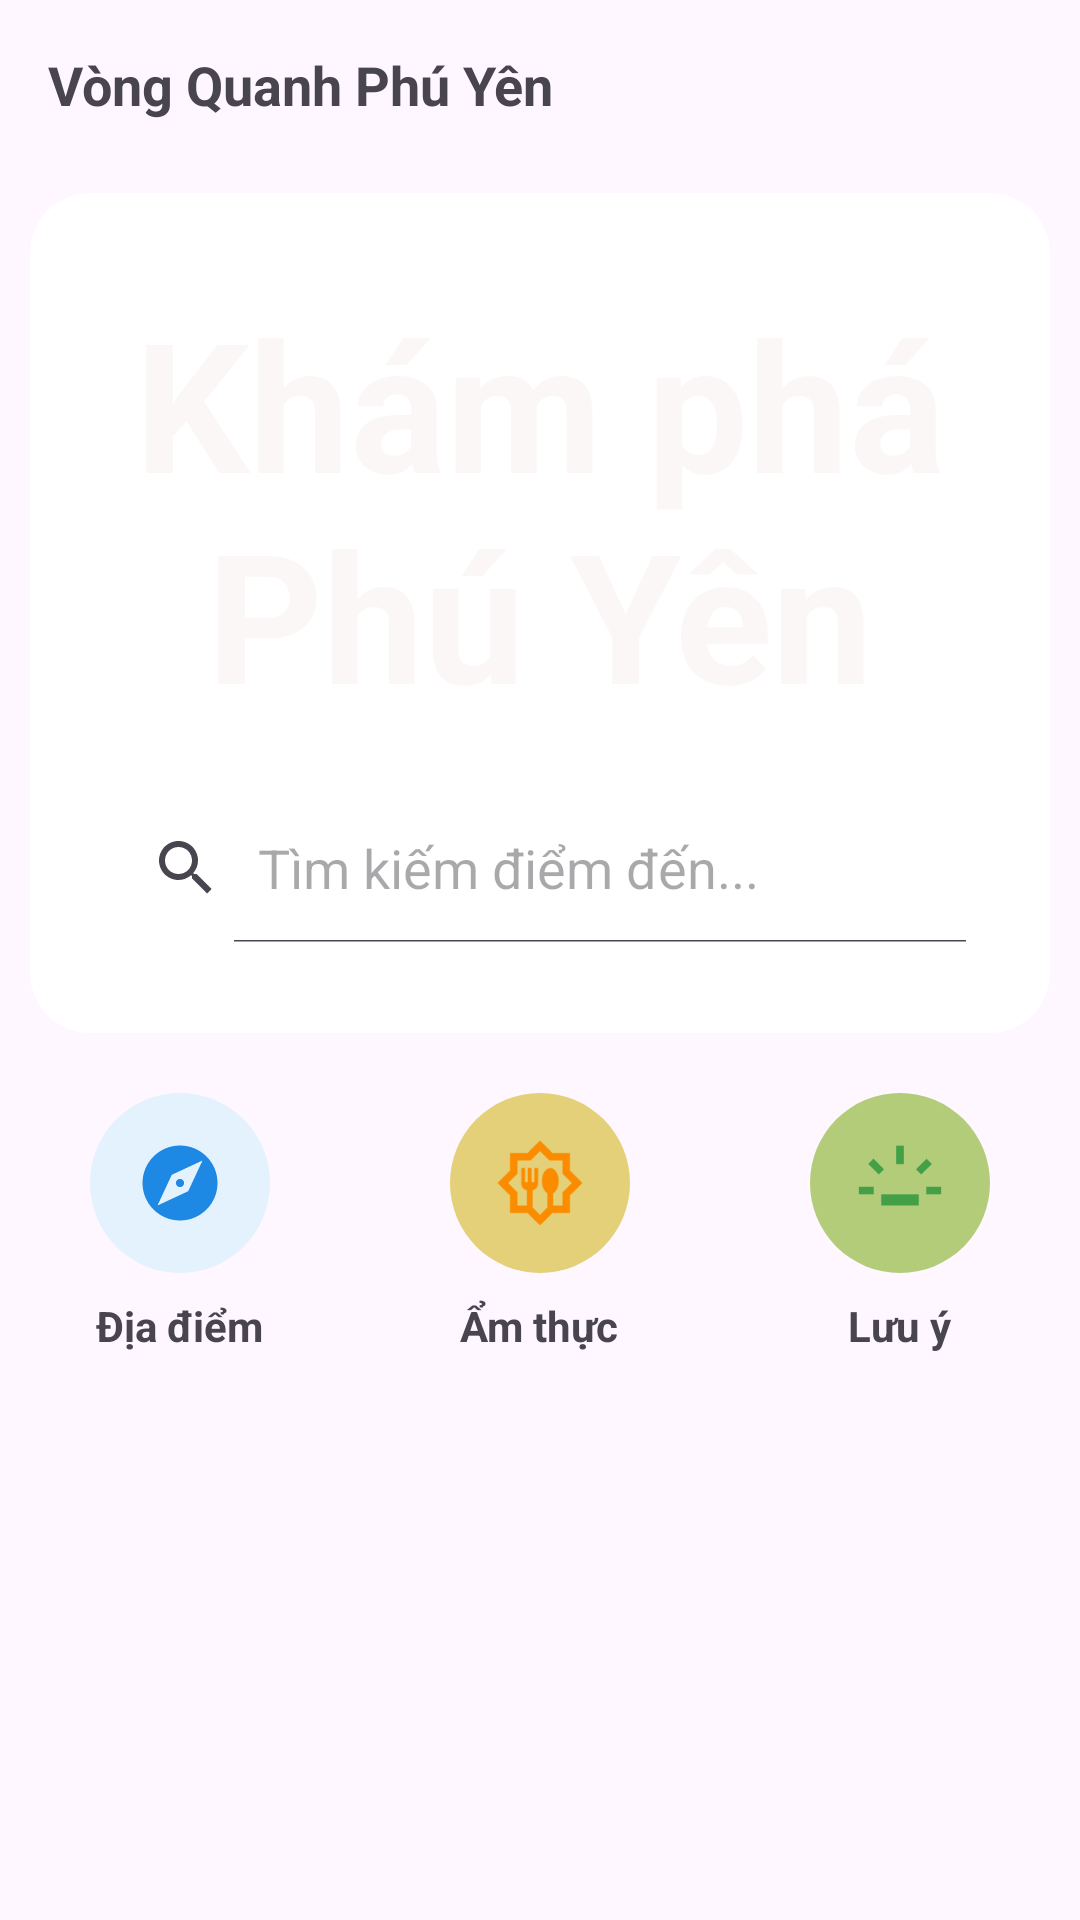

Screen size 1080w x 1920h. Icon name, then its box in pixels as (left=x1, top=y1, right=x2, bottom=y2):
explore: (left=90, top=1093, right=270, bottom=1273)
